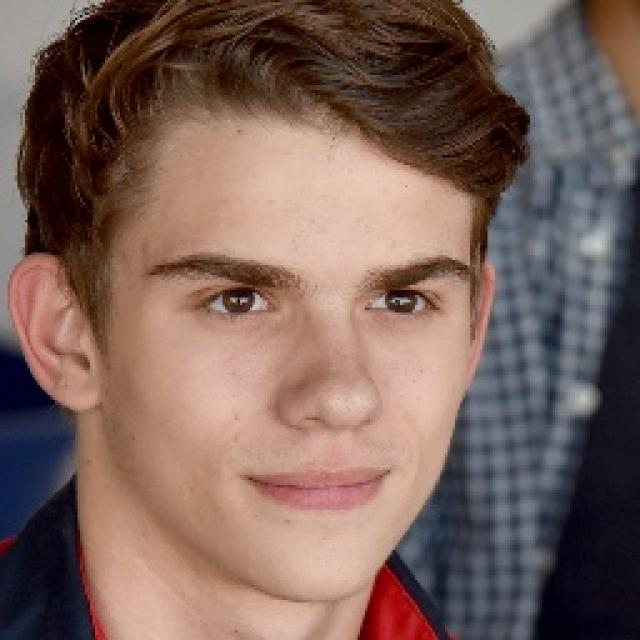earlobe: (63, 364, 101, 413)
eye: (200, 286, 277, 318), (366, 288, 438, 316)
nose: (284, 414, 382, 464)
wholeear: (8, 253, 101, 412), (464, 259, 496, 399)
